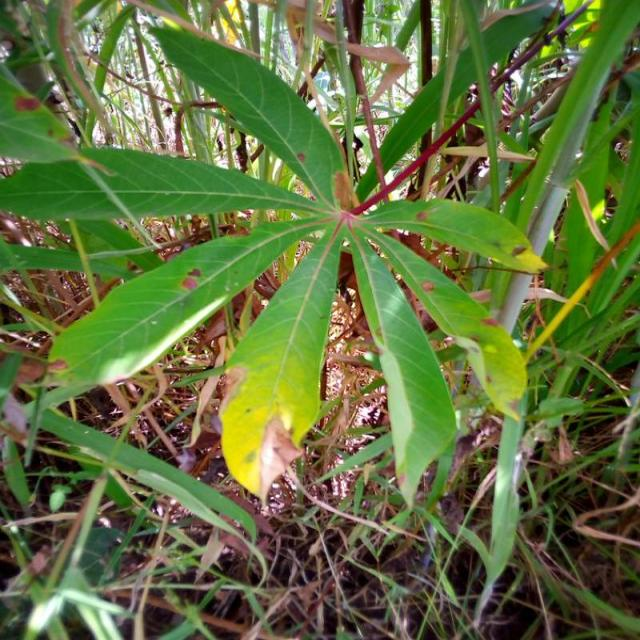cassava leaf: (45, 214, 322, 401), (146, 16, 348, 210), (218, 221, 343, 502), (347, 219, 458, 512)
